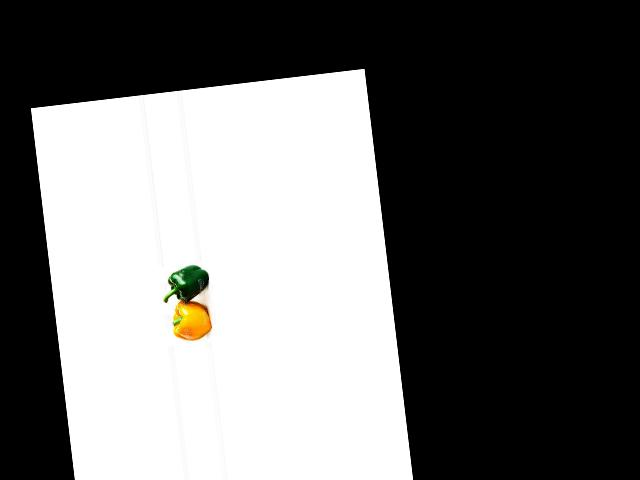bell_pepper: (163, 259, 216, 303)
